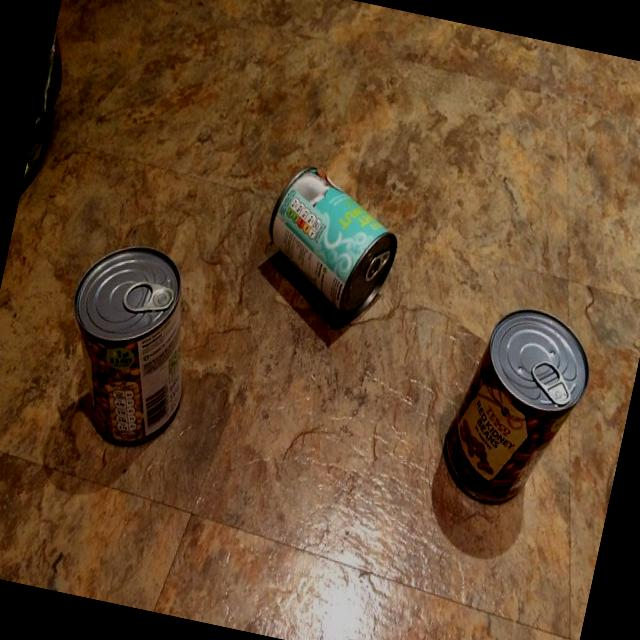Recycle: (428, 286, 603, 522), (43, 224, 215, 458), (249, 156, 411, 334)
